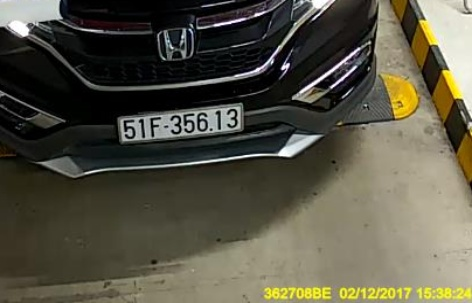plate: (115, 99, 254, 148)
